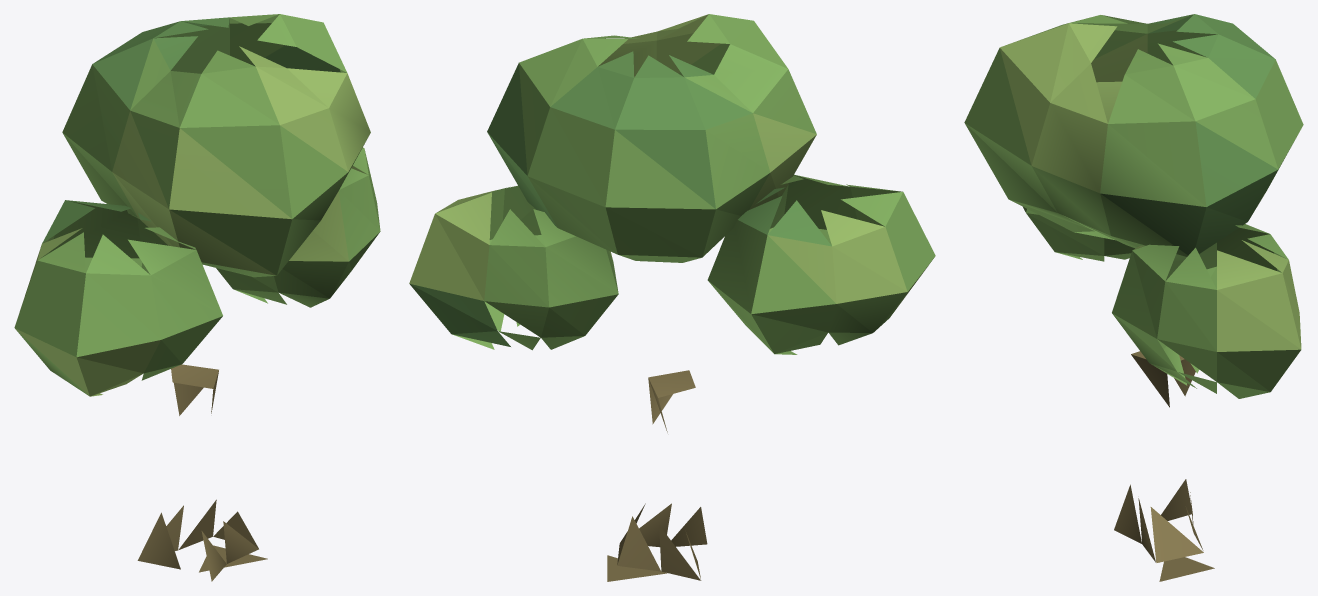
The model's file is lemon.lod.glb.
3 renders of one model, left to right at view 1: azimuth 30°, elevation 25°; view 2: azimuth 150°, elevation 25°; view 3: azimuth 270°, elevation 25°, orthographic. The views are drawn at different scales.
Parts seen in each view (by area): view 1: lemon; view 2: lemon; view 3: lemon.
Part boxes in pixels (x1,y1,x2,y2): lemon: (14,14,380,581); lemon: (409,14,935,581); lemon: (964,14,1303,581).
Size of the model in its own units: 3.06 by 3.77 by 2.18.
